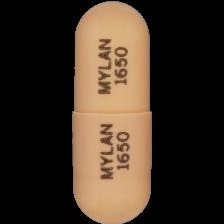0378-1650: (0, 0, 224, 224)
